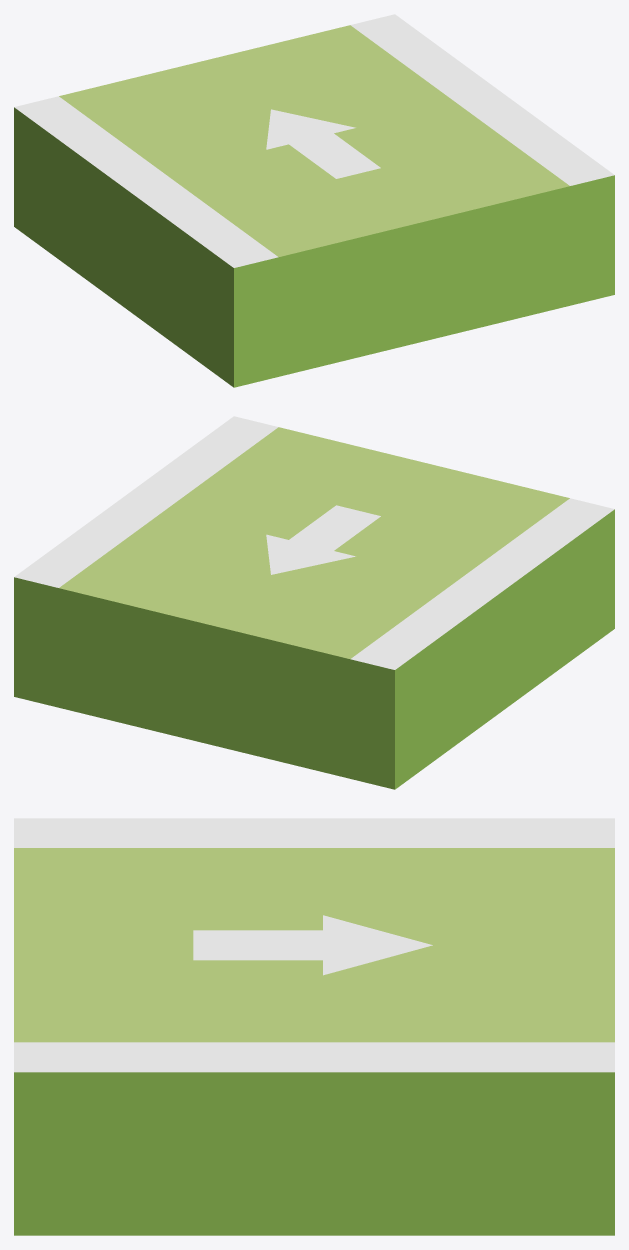
File: floor_green1.fbx
The picture shows the model from 3 angles, top to bottom: view 1: azimuth 30°, elevation 25°; view 2: azimuth 150°, elevation 25°; view 3: azimuth 270°, elevation 25°; orthographic projection. The views are drawn at different scales.
Visible parts, largest first — view 1: floor_green1; view 2: floor_green1; view 3: floor_green1.
Part boxes in pixels (x1,y1,x2,y2): floor_green1: [14, 14, 614, 387]; floor_green1: [14, 416, 614, 789]; floor_green1: [14, 818, 614, 1235].
Bounding box in the file's own units: 100 × 30 × 100.
